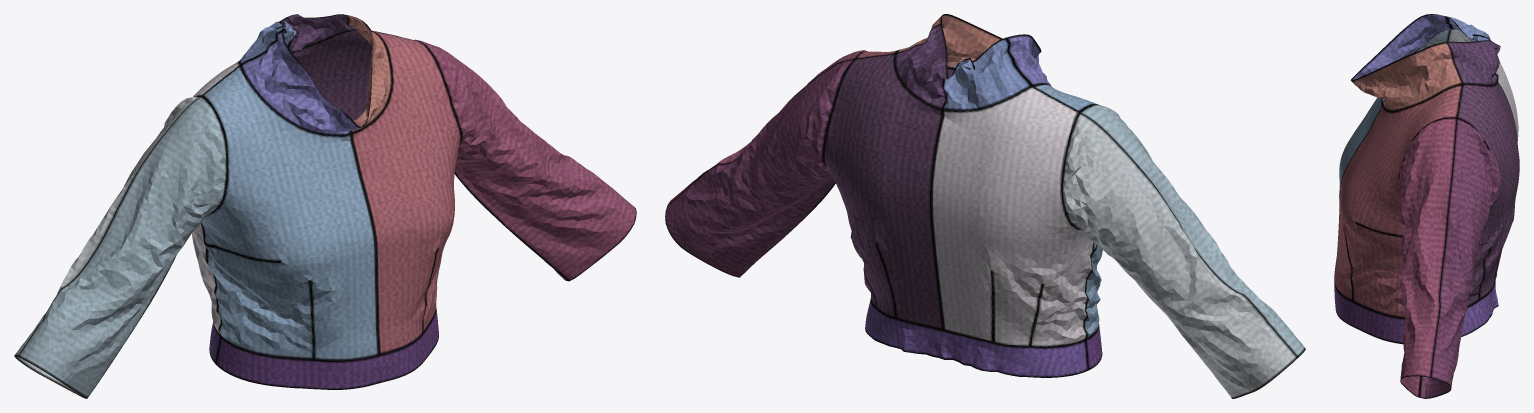
File: valid_garment_upper_sim.obj
The picture shows the model from 3 angles, left to right: view 1: azimuth 30°, elevation 25°; view 2: azimuth 150°, elevation 25°; view 3: azimuth 270°, elevation 25°; orthographic projection. The views are drawn at different scales.
Size of the model in its own units: 92.38 by 45.38 by 27.82.
1 material, 1 textured.
